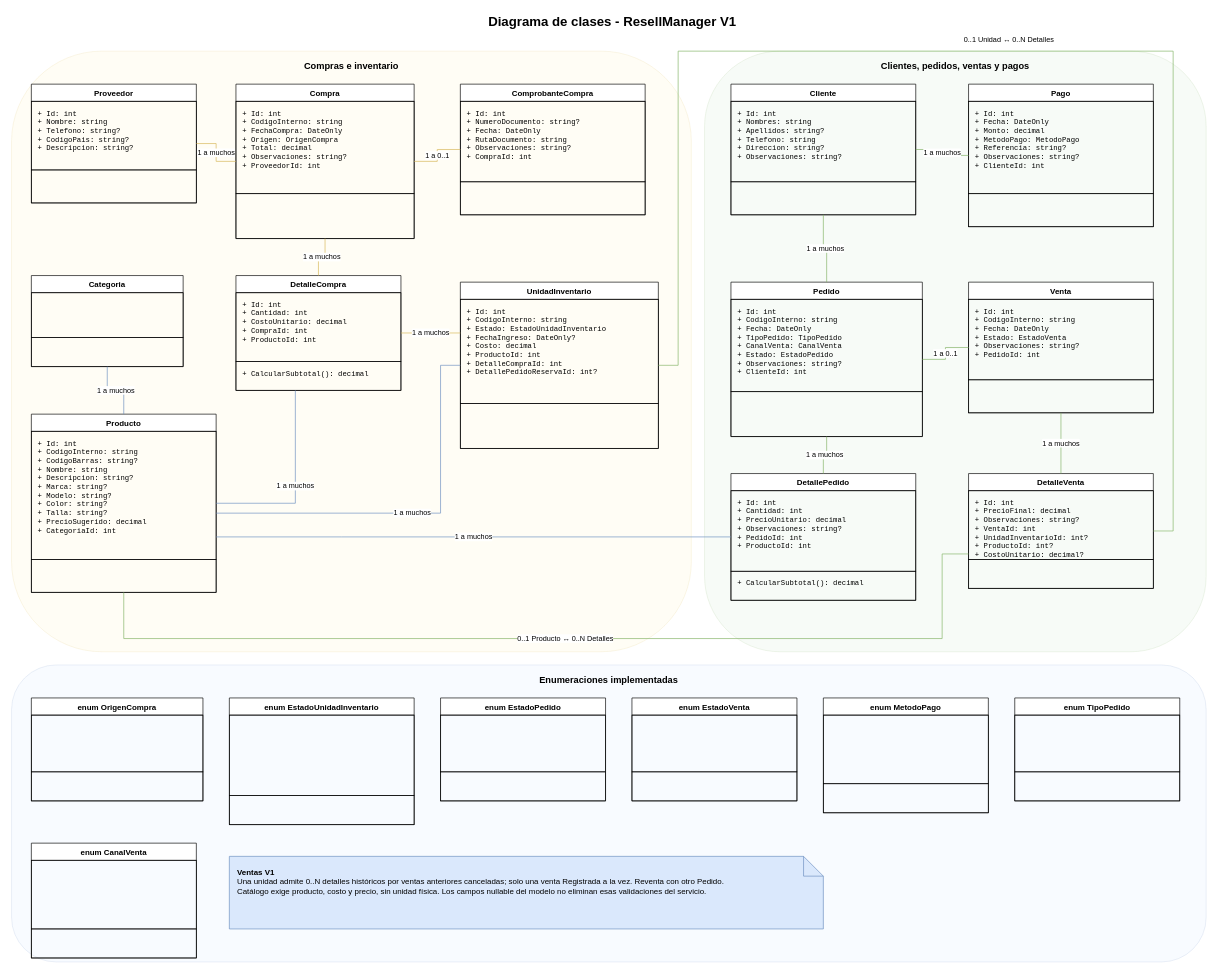
Some shapes in this 1218 by 974 pixel diagram are drawn without their labels. Each missing label, with the centre of its shape:
"+ CalcularGanancia(costo: decimal): decimal" belongs at point (1060, 573).
"+ CalcularTotal(): decimal" belongs at point (1060, 396).
"+ Id: int + Nombre: string + Observaciones: string?" belongs at point (107, 315).
"+ NombreCompleto(): string" belongs at point (823, 198).
"Comprada EnTransito Disponible Vendida Entregada Perdida" belongs at point (321, 755).
"Efectivo Transferencia Deposito Tarjeta Otro" belongs at point (905, 749).
"Importacion Catalogo Apartado VentaDirecta" belongs at point (1097, 743).
"Importacion CompraLocal Catalogo EnvioHermano" belongs at point (117, 743).
"Pendiente Confirmado Cancelado Completado" belongs at point (523, 743).
"Presencial = 1 WhatsApp = 2 Facebook = 3 Web = 4 Otro = 5" belongs at point (113, 894).
"Registrada Cancelada" belongs at point (714, 743).
